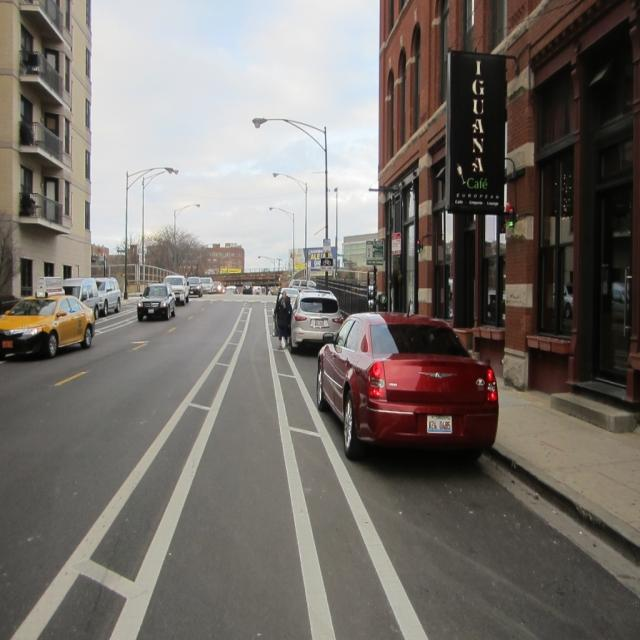car: (317, 305, 501, 457)
